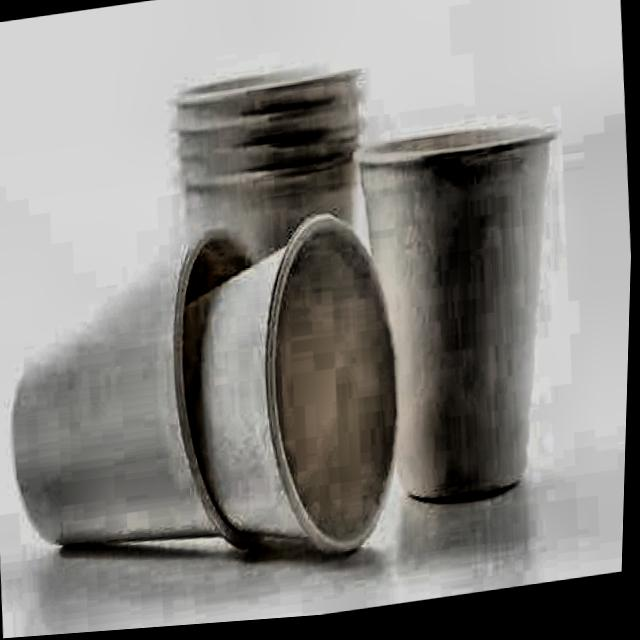Cup: (0, 199, 424, 611), (344, 107, 588, 535), (162, 50, 390, 473)
